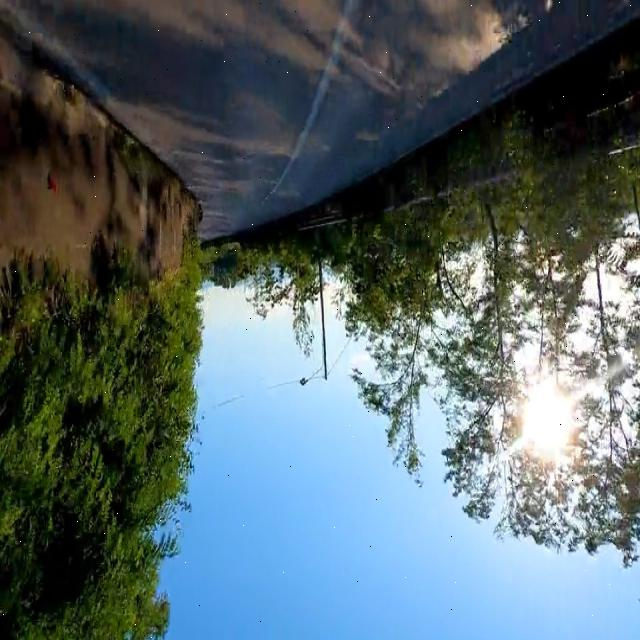lane: (263, 1, 357, 203)
road: (1, 1, 640, 239)
